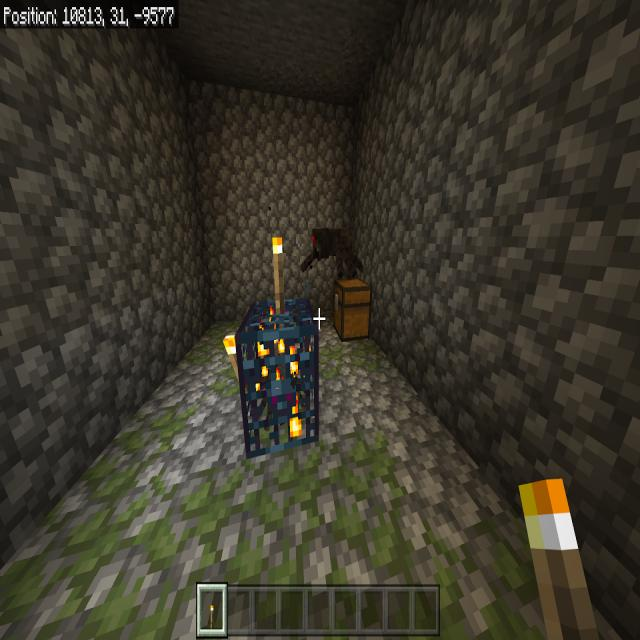Spider: (299, 225, 364, 278)
